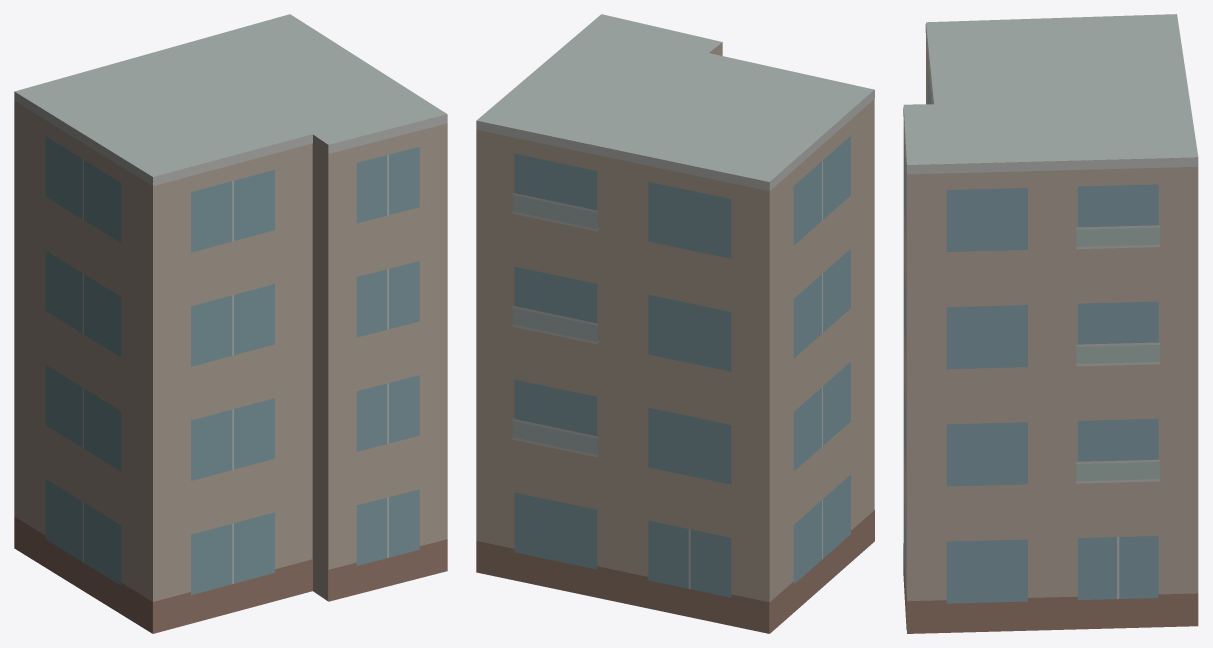
Rendered from survey-upis-32879062.glb.
3 views of the same model, side by side, from view 1: azimuth 30°, elevation 25°; view 2: azimuth 150°, elevation 25°; view 3: azimuth 270°, elevation 25° (orthographic). The views are drawn at different scales.
Parts seen in each view (by area): view 1: survey-upis-32879062.tmp; view 2: survey-upis-32879062.tmp; view 3: survey-upis-32879062.tmp.
Part boxes in pixels (x1,y1,x2,y2): survey-upis-32879062.tmp: [14, 14, 447, 633]; survey-upis-32879062.tmp: [476, 14, 874, 633]; survey-upis-32879062.tmp: [903, 14, 1198, 633].
Size of the model in its own units: 8.44 by 12.2 by 6.97.
